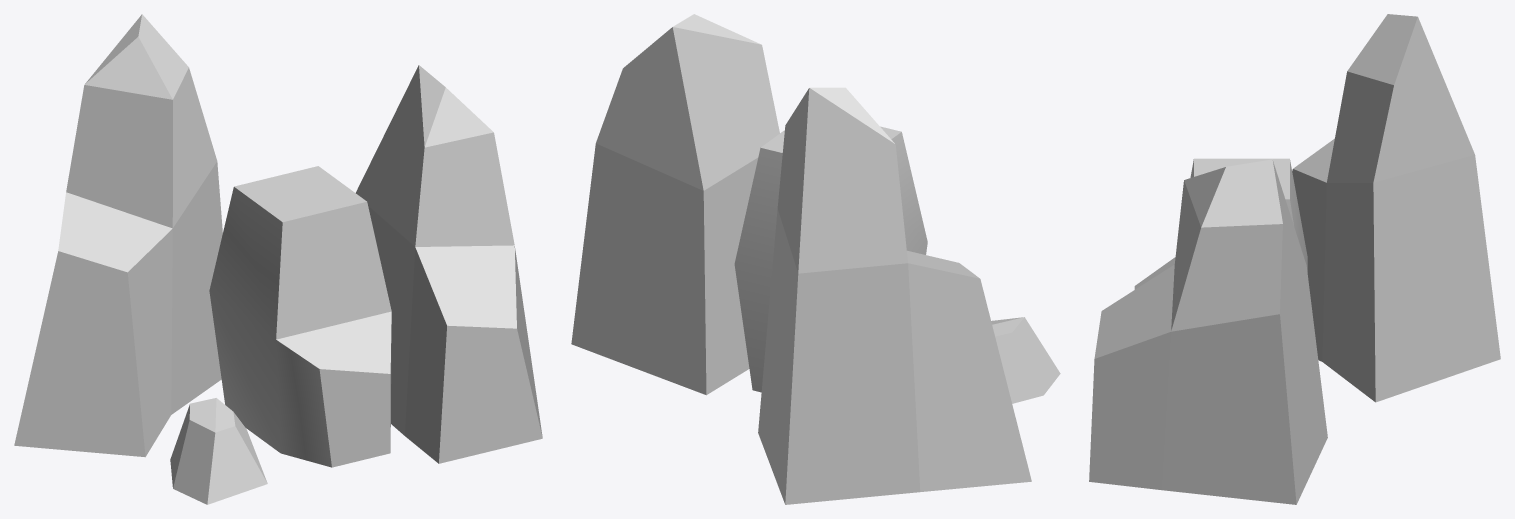
The model's file is obj_rock_backside1.fbx.
3 renders of one model, left to right at view 1: azimuth 30°, elevation 25°; view 2: azimuth 150°, elevation 25°; view 3: azimuth 270°, elevation 25°, orthographic. The views are drawn at different scales.
Parts seen in each view (by area): view 1: obj_rock_backside1; view 2: obj_rock_backside1; view 3: obj_rock_backside1.
Part boxes in pixels (x1=…): obj_rock_backside1: x1=14, y1=14, x2=542, y2=504; obj_rock_backside1: x1=571, y1=14, x2=1060, y2=504; obj_rock_backside1: x1=1089, y1=14, x2=1500, y2=504.
Size of the model in its own units: 3.94 by 2.99 by 3.14.
Materials: 1 (1 with a texture image).
